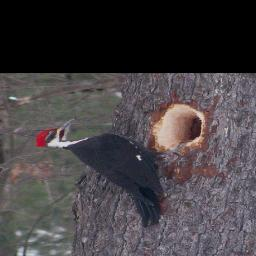Woodpecker: (31, 118, 194, 228)
